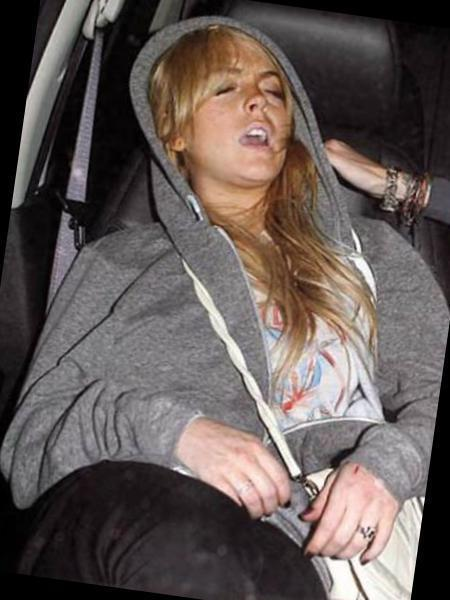Drunk: (184, 32, 288, 183)
